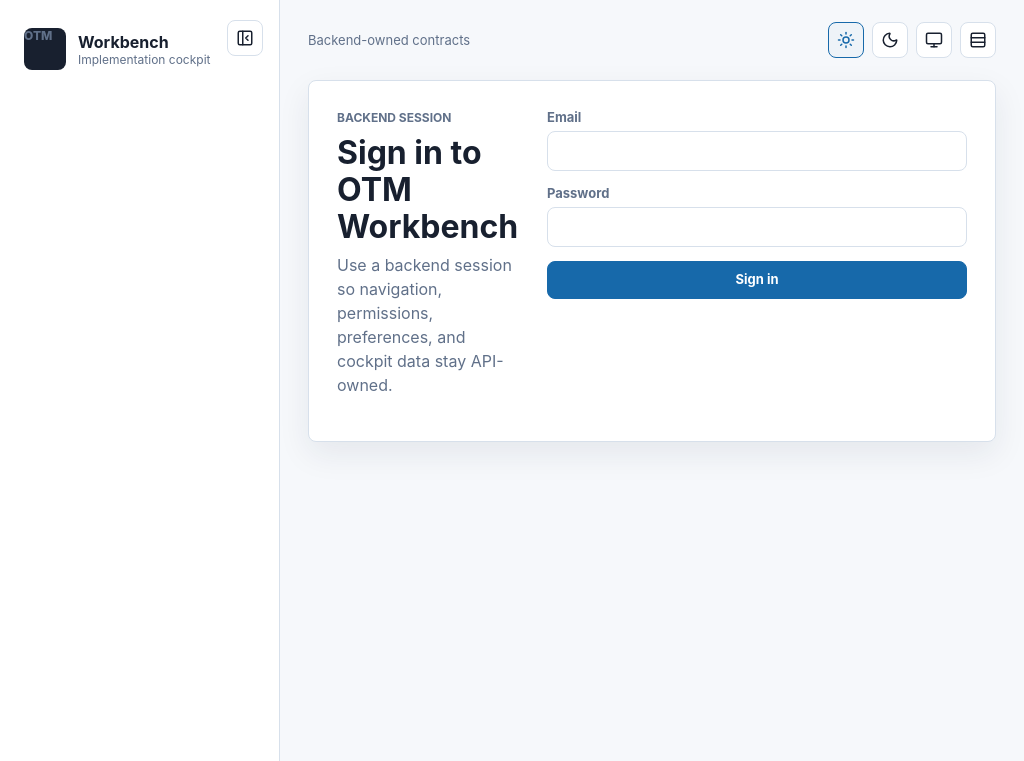
Test: App shell › renders Developer Tools as a guarded technical hub instead of a generic module placeholder
Type "synthetic.user@example.test" into the field labelled "Email".
click(757, 151); type("synthetic.user@example.test")  # box [547,131,967,171]
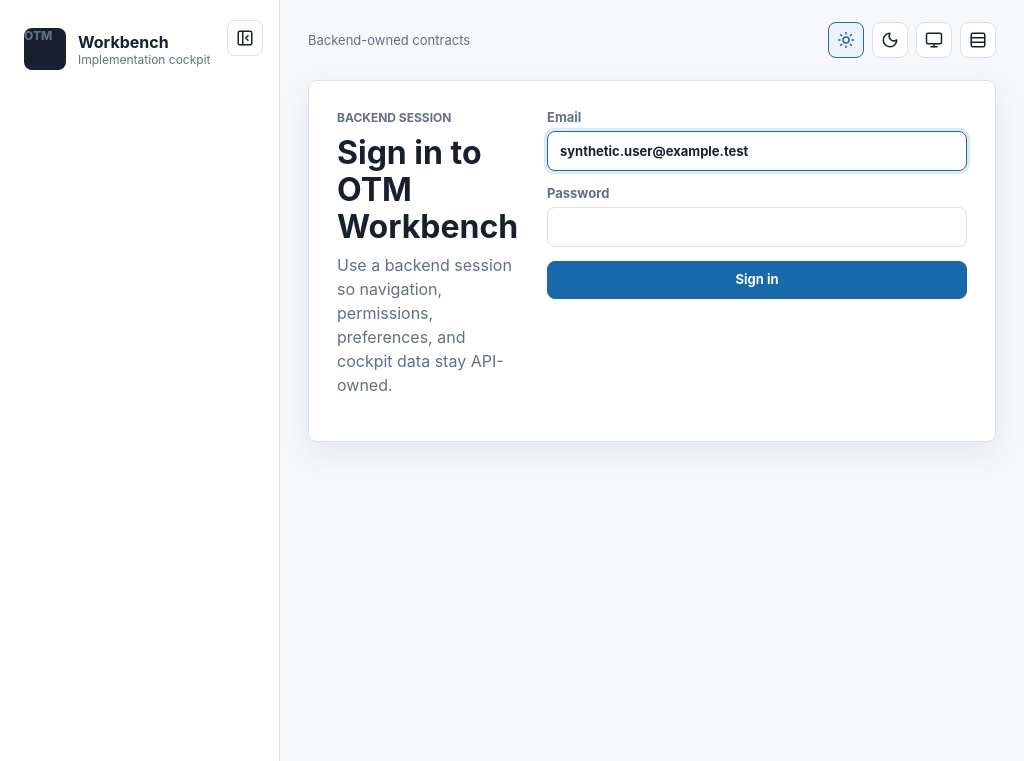
Type "SyntheticPass123!" into the password field labelled "Password".
click(757, 227); type("SyntheticPass123!")  # box [547,207,967,247]
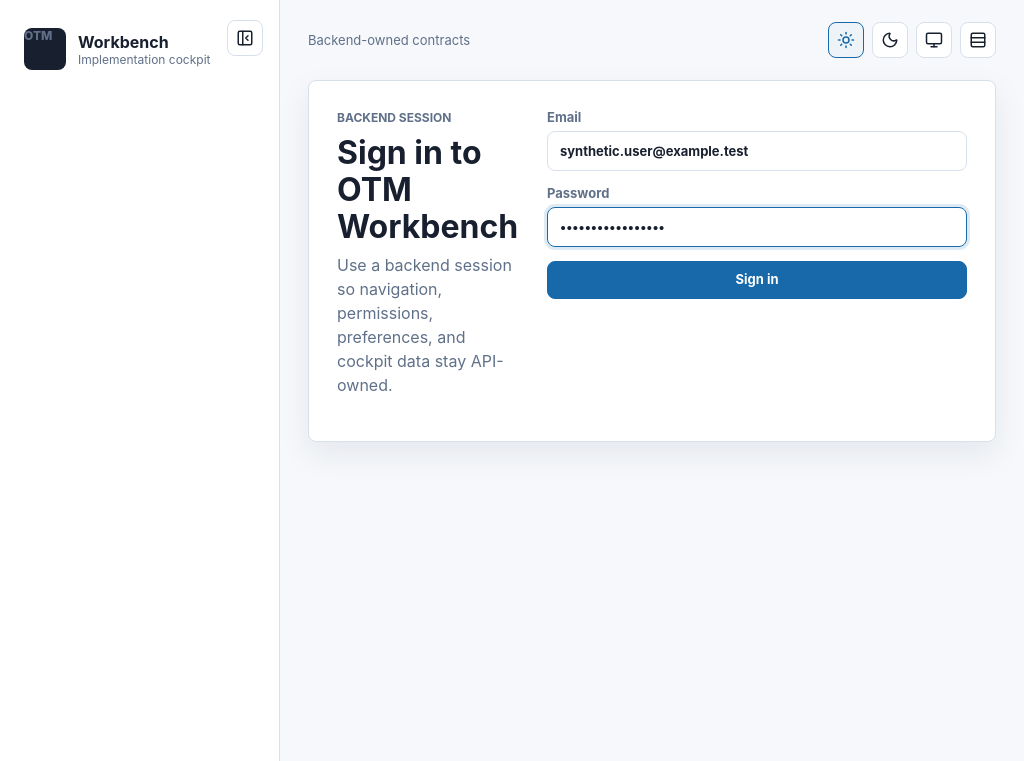
Click the button "Sign in".
click(757, 280)  # box [547,261,967,299]
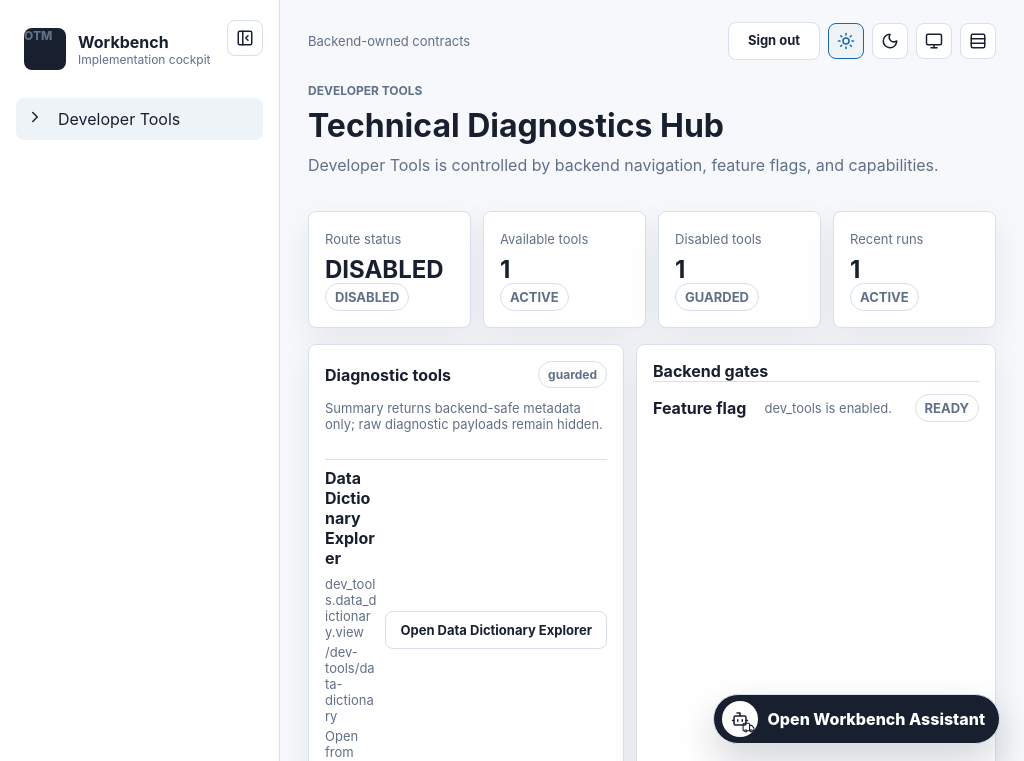
Now the heading "Technical Diagnostics Hub" is shown, box [308,106,724,145]
Now the text "Developer Tools is controlled by backend navigation, feature flags, and capabilities." is shown, box [308,155,939,175]
Now the text "Data Dictionary Explorer" is shown, box [325,468,378,568]
